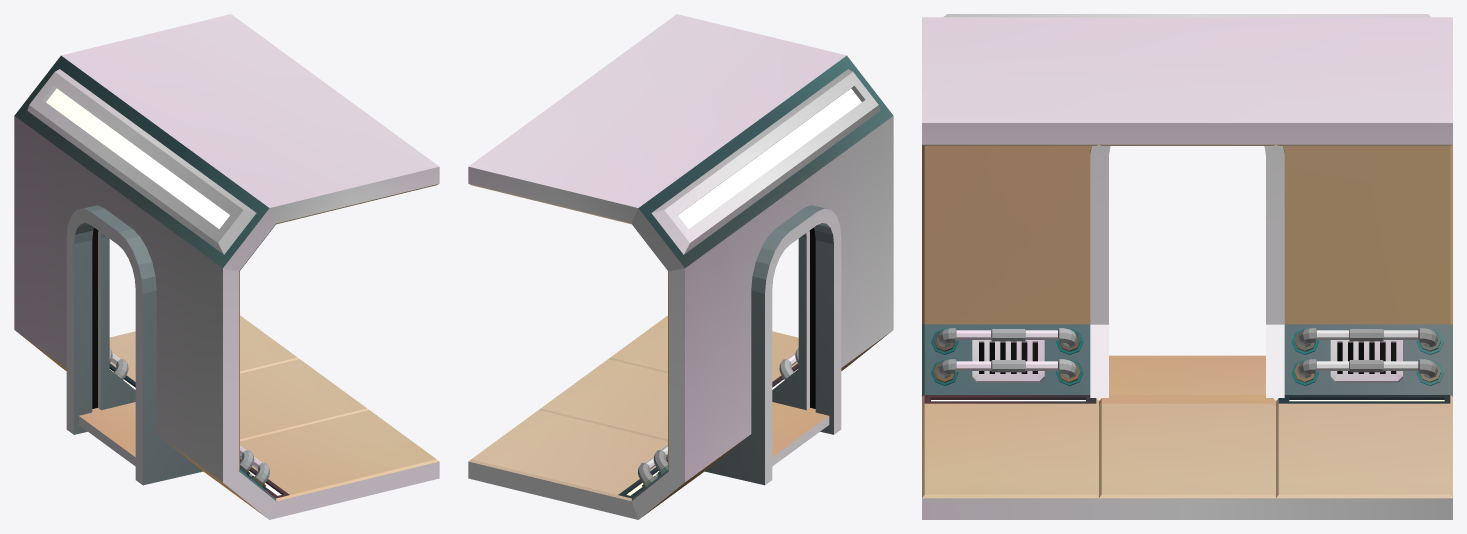
The model's file is C_DoorRoom.fbx.
3 views of the same model, side by side, from view 1: azimuth 30°, elevation 25°; view 2: azimuth 150°, elevation 25°; view 3: azimuth 270°, elevation 25° (orthographic). The views are drawn at different scales.
Parts seen in each view (by area): view 1: C_DoorRoom; view 2: C_DoorRoom; view 3: C_DoorRoom.
Part boxes in pixels (<box>): C_DoorRoom: <box>14,14,439,519</box>; C_DoorRoom: <box>468,14,893,519</box>; C_DoorRoom: <box>922,14,1452,519</box>.
Size of the model in its own units: 255 by 330 by 400.
